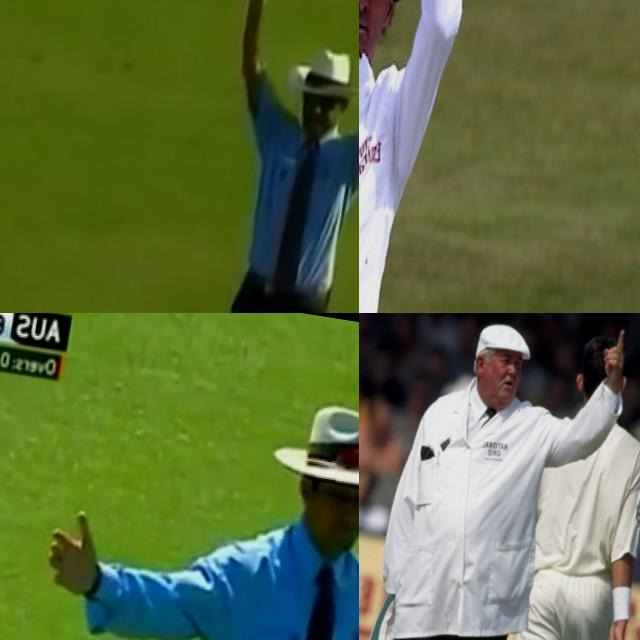No_Ball: (0, 356, 359, 640)
Out: (359, 313, 640, 640)
Six: (159, 0, 359, 313), (359, 0, 509, 313)
